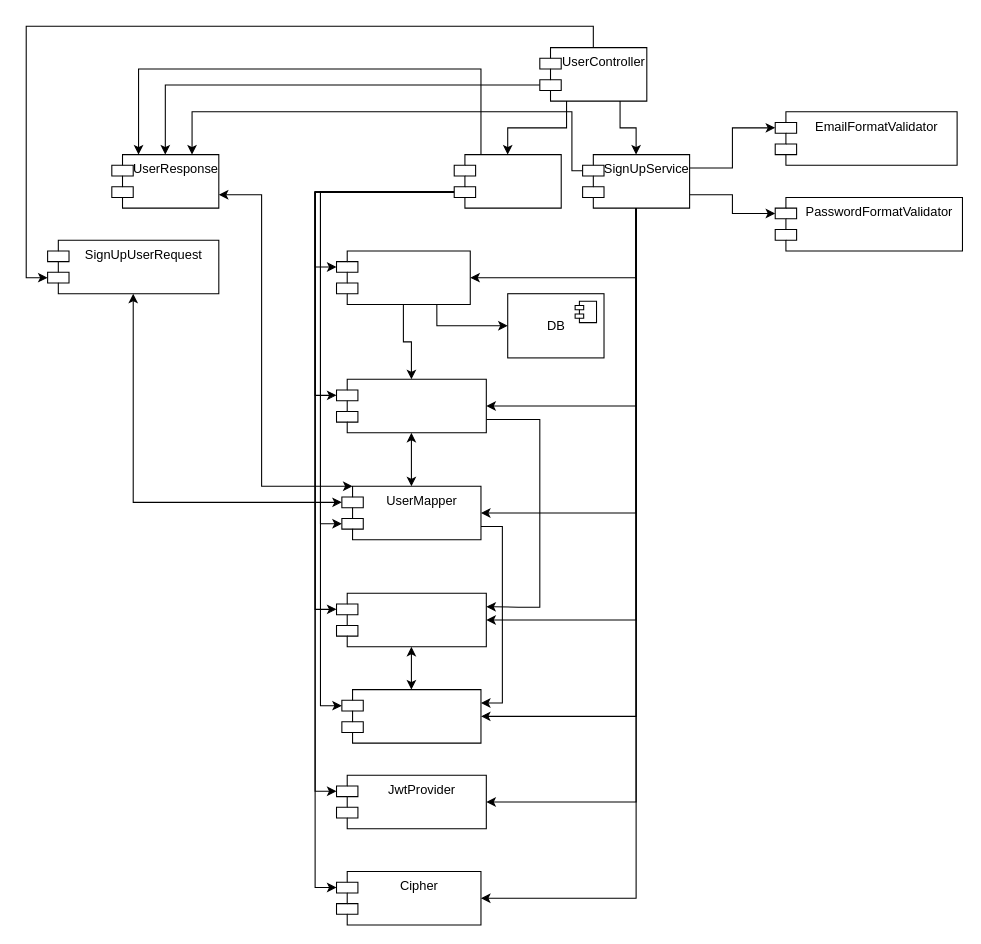
The diagram is 981 pixels wide and 944 high, and some of its shapes have lost their labels. The box of each missing label's shape, as (x1, y1, x2, y2) in pixels:
LoginService: (453, 154, 561, 208)
Phone: (335, 592, 486, 647)
PhoneMapper: (341, 689, 481, 743)
User: (335, 378, 486, 433)
UserRepository: (335, 250, 470, 304)
